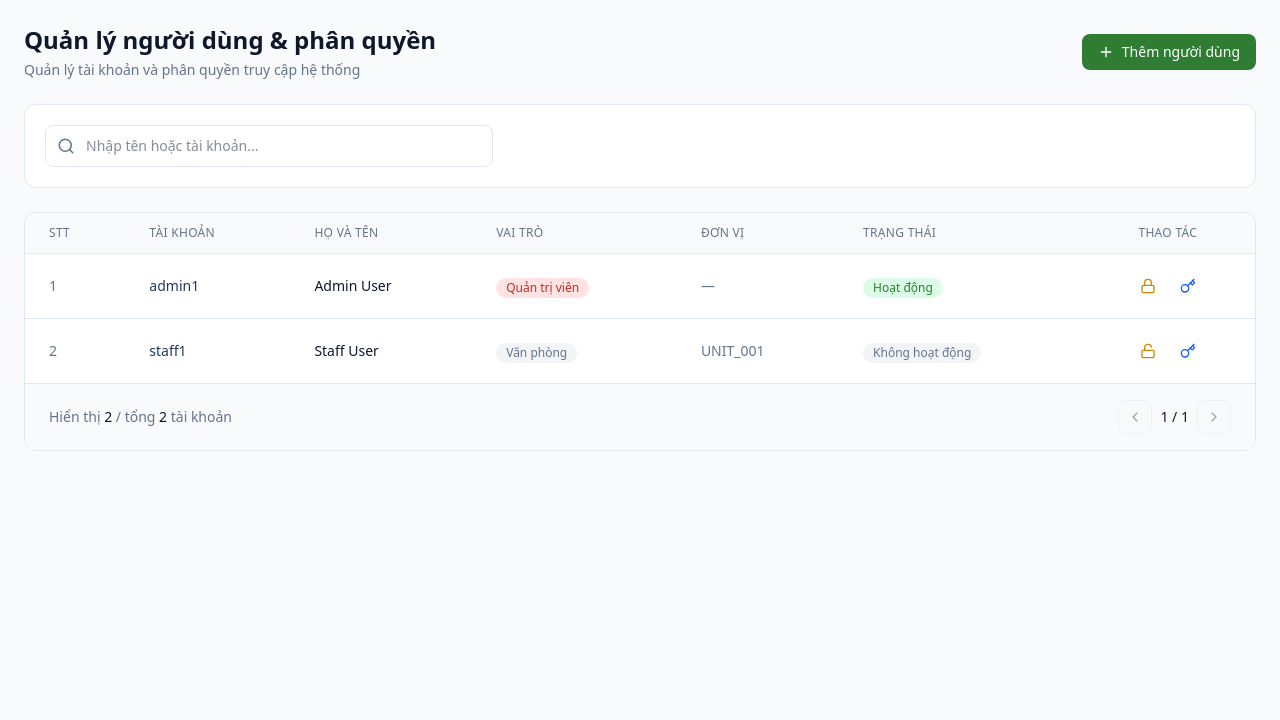
Scenario: UserManagementPage › opens add user modal when button clicked
What coordinates should you click on to do the following:
click the button with test id "add-user-btn"
I would click on:
 (1169, 52)
Its box is 1082,34 -> 1256,70.
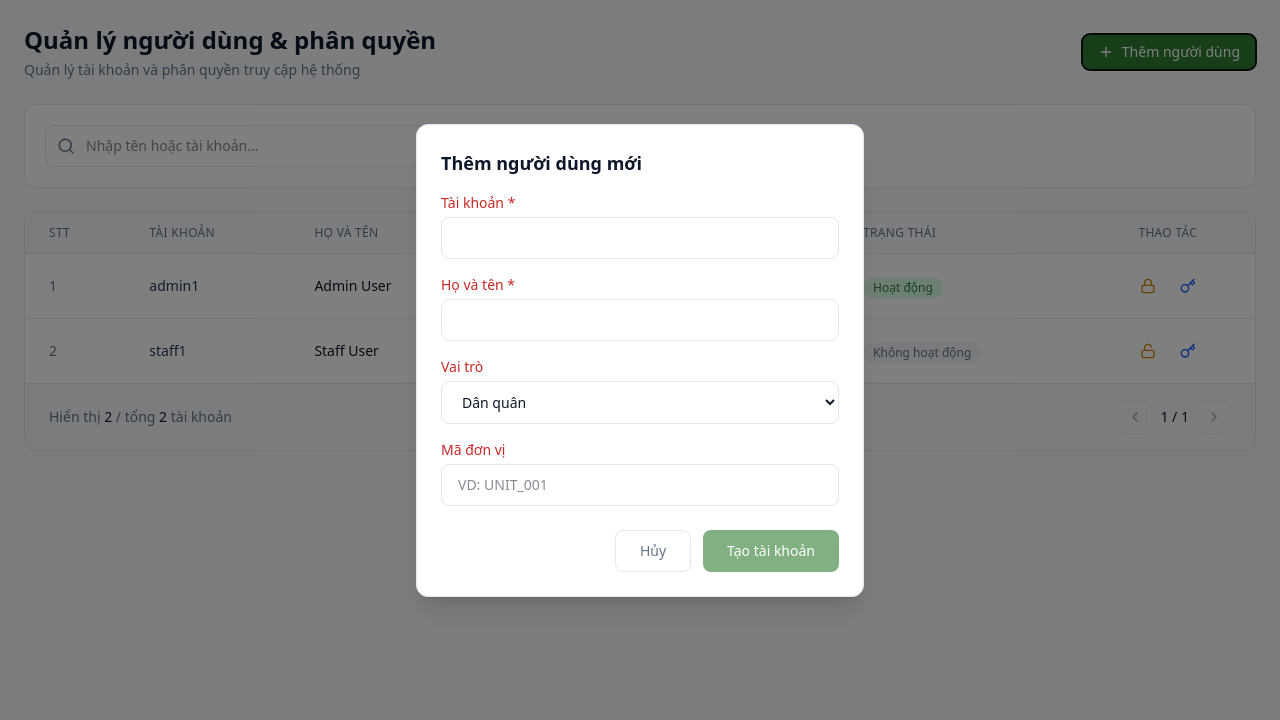
Expected: the element with test id "add-user-modal" is shown
